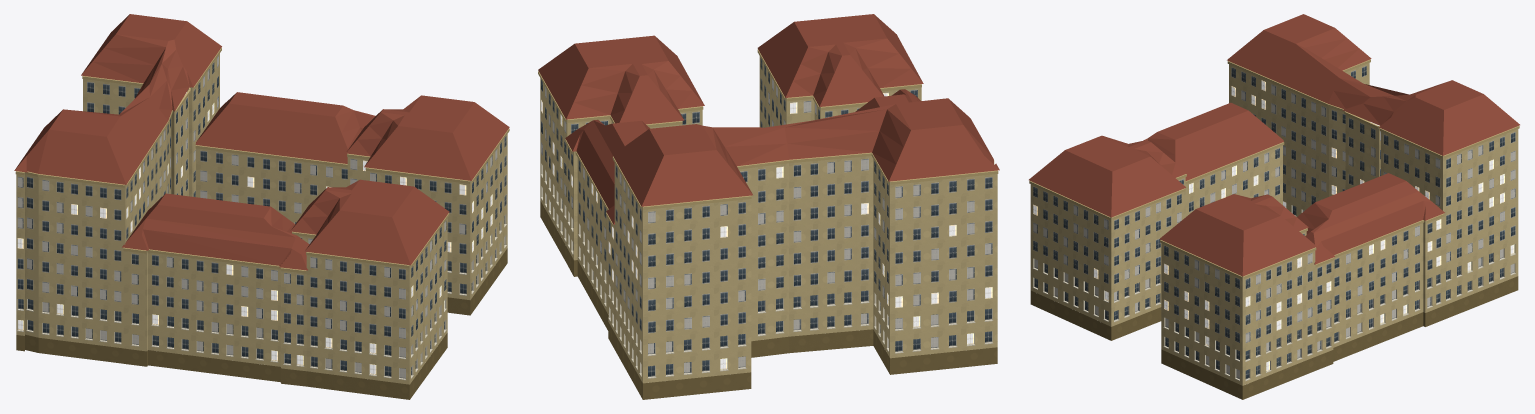
Rendered from sh_limmat.glb.
3 renders of one model, left to right at view 1: azimuth 30°, elevation 25°; view 2: azimuth 150°, elevation 25°; view 3: azimuth 270°, elevation 25°, orthographic. The views are drawn at different scales.
Visible parts, largest first — view 1: sh_limmat; view 2: sh_limmat; view 3: sh_limmat.
Part boxes in pixels (x1=…): sh_limmat: x1=14, y1=14, x2=509, y2=399; sh_limmat: x1=538, y1=14, x2=999, y2=399; sh_limmat: x1=1029, y1=14, x2=1519, y2=399.
Size of the model in its own units: 94.57 by 41.7 by 95.14.
3 materials, 3 textured.
